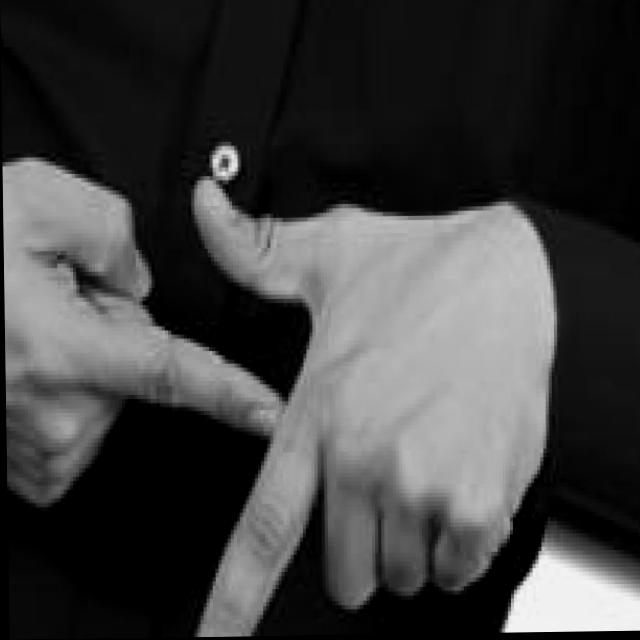F: (2, 145, 521, 640)
